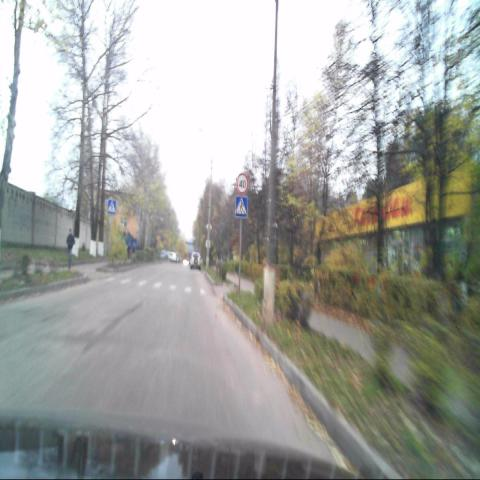5_19_1: (236, 197, 248, 216), (108, 200, 115, 213)
